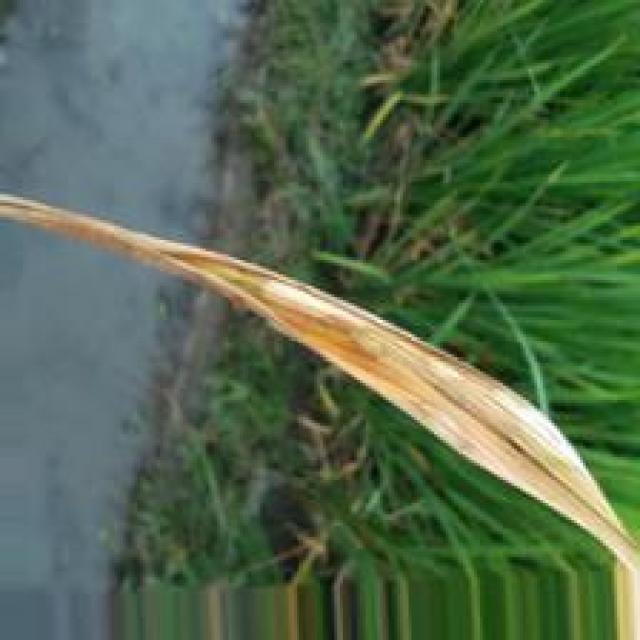Rice False Smut: (126, 232, 620, 549)
